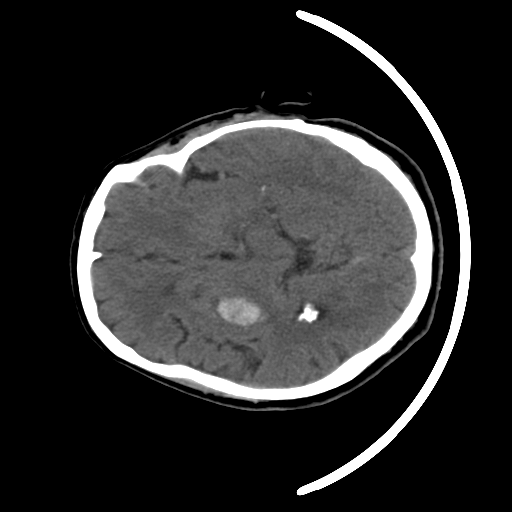a: (193, 278, 288, 341)
